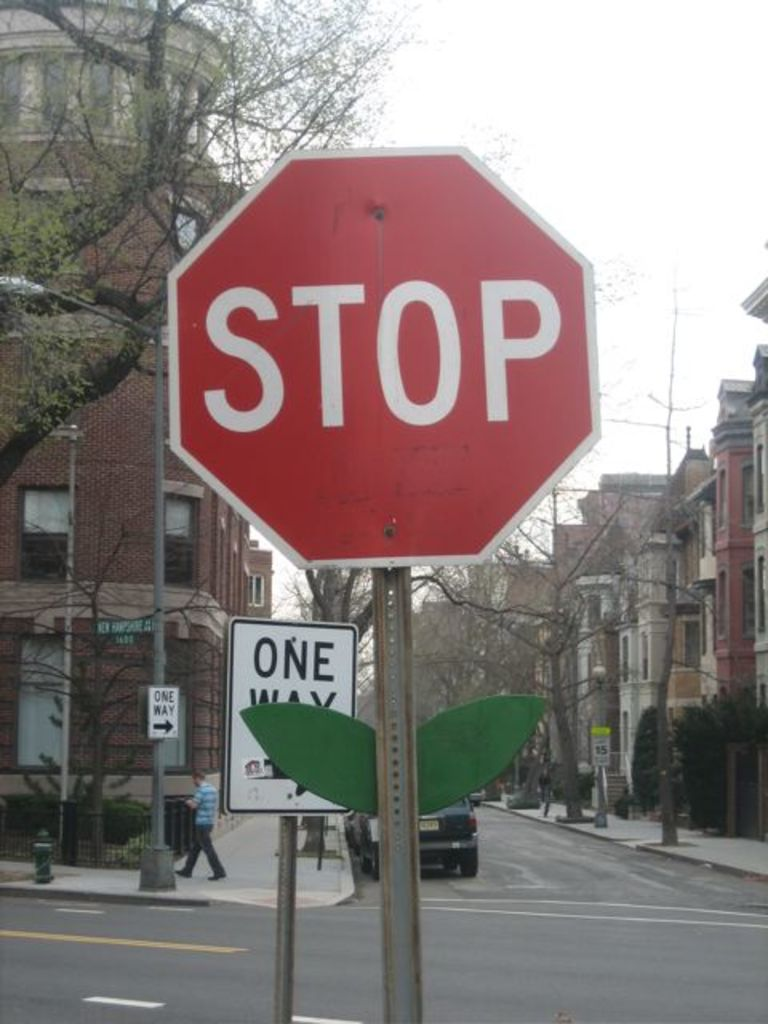stop_sign: (168, 152, 597, 561)
